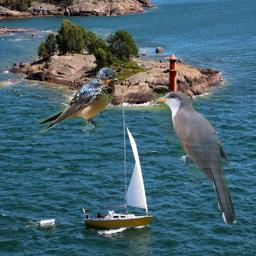Cuckoo: (152, 89, 240, 227)
Swallow: (34, 67, 119, 139)
